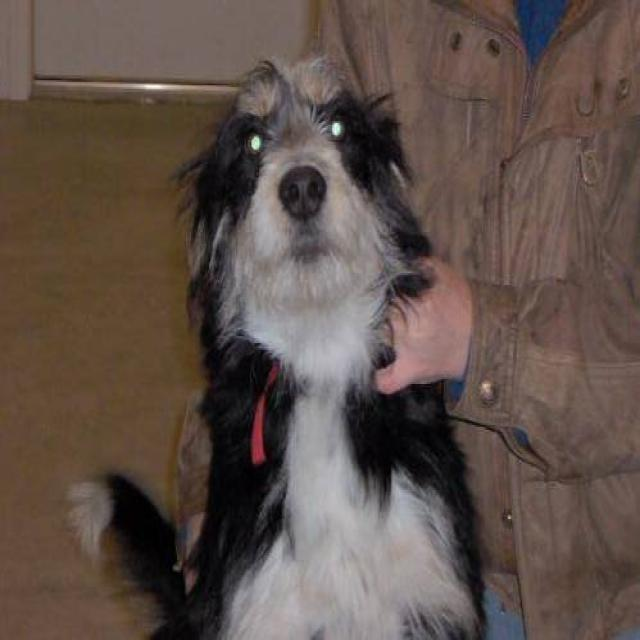Dog: (194, 56, 400, 321)
